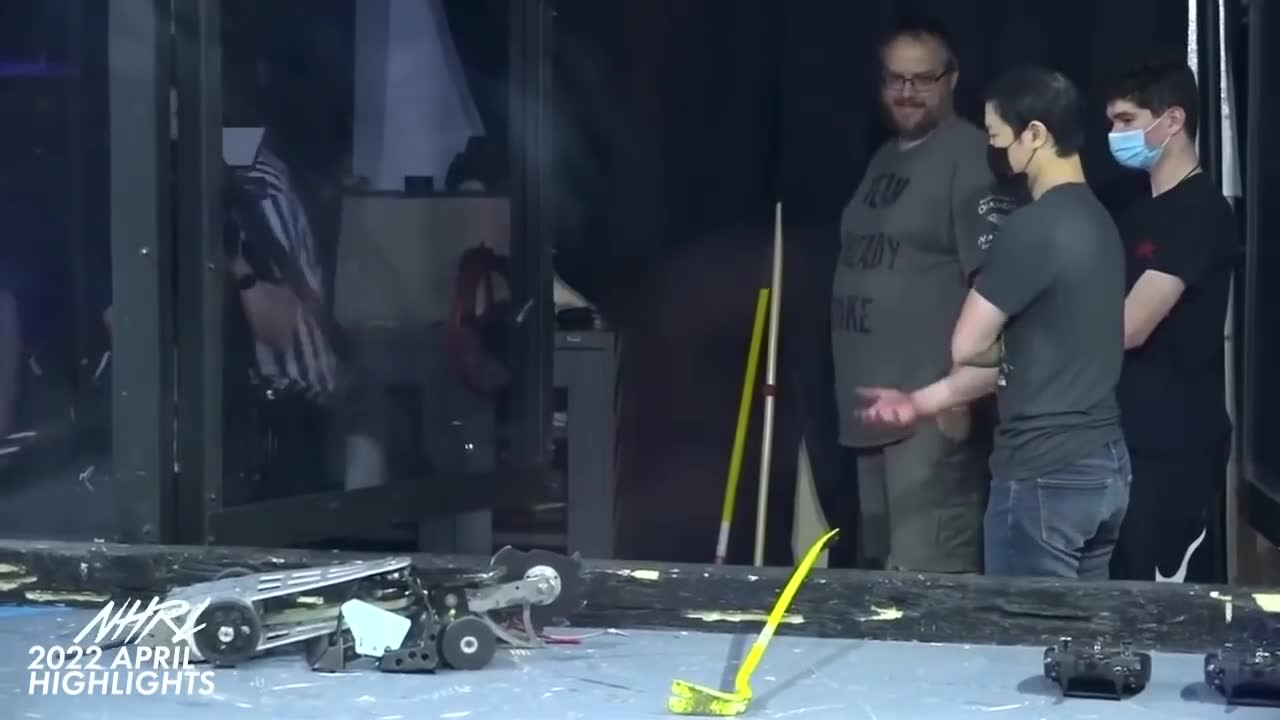combatbot: (157, 547, 416, 675), (370, 549, 566, 674)
